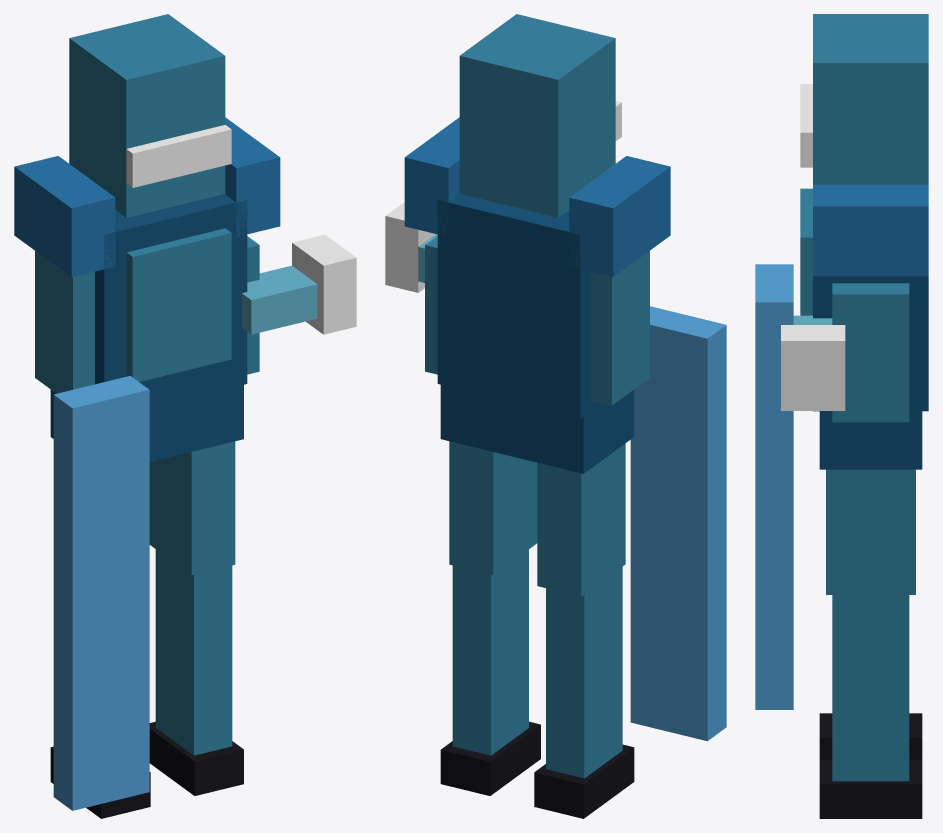
Rendered from knight.gltf.
The picture shows the model from 3 angles, left to right: view 1: azimuth 30°, elevation 25°; view 2: azimuth 150°, elevation 25°; view 3: azimuth 270°, elevation 25°; orthographic projection.
Visible parts, largest first — view 1: 06_slab_shield, 17_sealed_helm, 03_right_shin, 13_chest_plate, 10_faction_suit, 05_right_thigh, 14_left_pauldron, 09_left_arm, 07_hip_armour, 15_right_pauldron, 12_carbine_muzzle_vent, 18_visor_slit (+4 smaller); view 2: 06_slab_shield, 10_faction_suit, 17_sealed_helm, 02_left_shin, 03_right_shin, 07_hip_armour, 04_left_thigh, 05_right_thigh, 14_left_pauldron, 09_left_arm, 15_right_pauldron, 00_left_boot (+3 smaller); view 3: 17_sealed_helm, 06_slab_shield, 03_right_shin, 05_right_thigh, 15_right_pauldron, 08_right_arm, 12_carbine_muzzle_vent, 07_hip_armour, 01_right_boot, 10_faction_suit, 13_chest_plate, 00_left_boot (+2 smaller).
Boxes of the visible parts, bbox=[...] form: 06_slab_shield: bbox=[53, 375, 149, 810]; 17_sealed_helm: bbox=[69, 14, 225, 217]; 03_right_shin: bbox=[155, 549, 232, 755]; 13_chest_plate: bbox=[126, 228, 231, 381]; 10_faction_suit: bbox=[95, 194, 247, 407]; 05_right_thigh: bbox=[149, 441, 235, 575]; 14_left_pauldron: bbox=[14, 156, 115, 277]; 09_left_arm: bbox=[35, 251, 94, 393]; 07_hip_armour: bbox=[50, 385, 243, 461]; 15_right_pauldron: bbox=[225, 117, 280, 236]; 12_carbine_muzzle_vent: bbox=[292, 234, 356, 334]; 18_visor_slit: bbox=[126, 125, 231, 187]; 06_slab_shield: bbox=[630, 306, 726, 741]; 10_faction_suit: bbox=[437, 194, 600, 418]; 17_sealed_helm: bbox=[459, 14, 615, 217]; 02_left_shin: bbox=[546, 563, 622, 778]; 03_right_shin: bbox=[452, 549, 528, 755]; 07_hip_armour: bbox=[440, 385, 634, 473]; 04_left_thigh: bbox=[537, 443, 625, 596]; 05_right_thigh: bbox=[449, 441, 537, 575]; 14_left_pauldron: bbox=[569, 156, 670, 277]; 09_left_arm: bbox=[590, 251, 649, 405]; 15_right_pauldron: bbox=[404, 117, 459, 236]; 00_left_boot: bbox=[534, 744, 634, 818]; 17_sealed_helm: bbox=[813, 14, 928, 184]; 06_slab_shield: bbox=[755, 264, 793, 709]; 03_right_shin: bbox=[832, 583, 909, 781]; 05_right_thigh: bbox=[826, 469, 915, 594]; 15_right_pauldron: bbox=[813, 184, 928, 276]; 08_right_arm: bbox=[832, 283, 909, 422]; 12_carbine_muzzle_vent: bbox=[781, 325, 845, 410]; 07_hip_armour: bbox=[819, 399, 922, 469]; 01_right_boot: bbox=[819, 759, 922, 818]; 10_faction_suit: bbox=[813, 276, 928, 411]; 13_chest_plate: bbox=[800, 188, 812, 315]; 00_left_boot: bbox=[819, 713, 922, 759].
Size of the model in its own units: 0.8438 by 2 by 0.4219.
